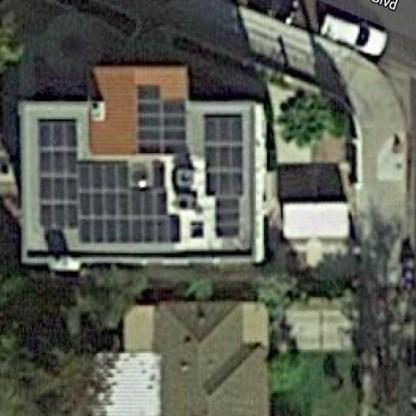car: (320, 5, 394, 66)
solar_panel: (72, 153, 184, 253), (199, 106, 252, 247), (32, 113, 84, 237), (128, 80, 194, 169)
